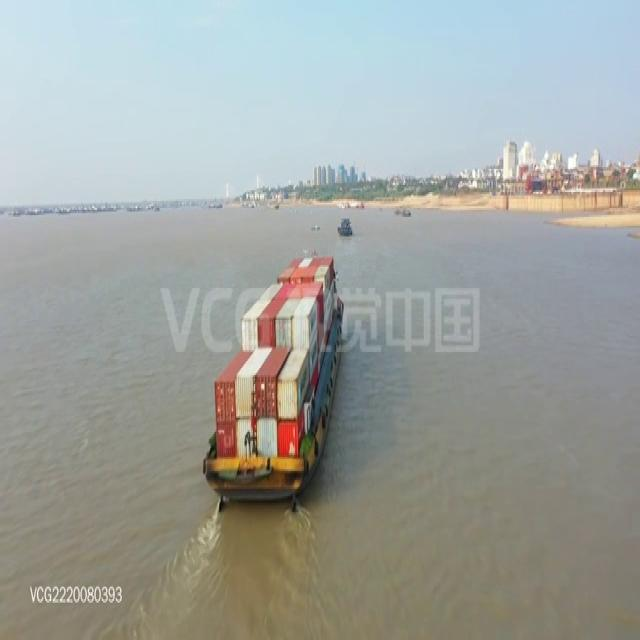cargoship: (203, 250, 347, 502)
